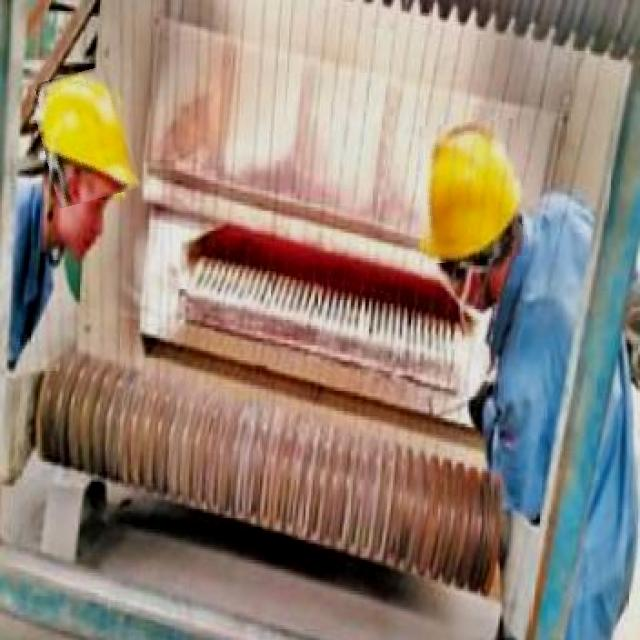helmet: (419, 120, 526, 262), (35, 69, 134, 204)
